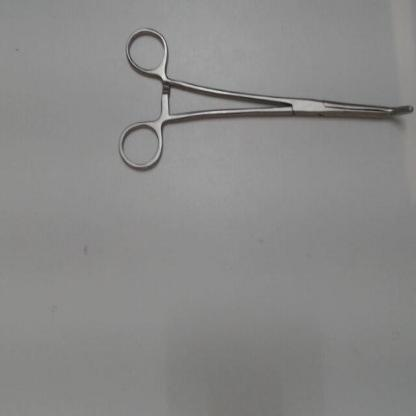Lahey Forceps: (113, 21, 415, 177)
